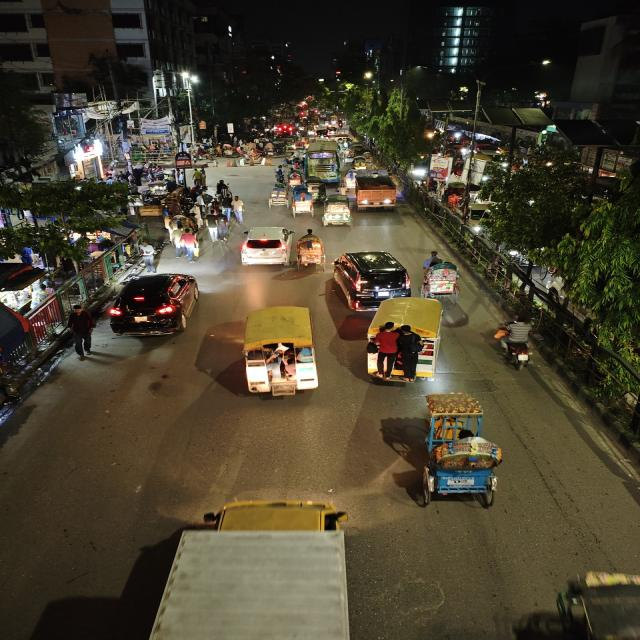bus: (305, 140, 342, 181)
car: (106, 270, 205, 342), (331, 249, 413, 307), (237, 224, 294, 270)
cng: (320, 194, 353, 228)
human_hauler: (234, 304, 334, 405), (367, 296, 446, 382)
motorcycle: (489, 316, 544, 374)
pedestrian: (66, 303, 97, 360), (171, 229, 204, 263), (203, 210, 226, 244), (230, 194, 248, 224), (216, 178, 232, 199), (192, 170, 206, 190)
pickup_van: (348, 171, 402, 212)
rickshaw: (414, 392, 520, 513), (420, 248, 465, 301), (294, 232, 326, 272), (287, 188, 316, 216), (265, 183, 290, 209), (287, 171, 304, 189)
truck: (147, 494, 370, 640), (542, 562, 640, 640)
